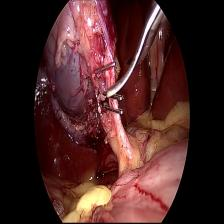Scissors: (101, 1, 171, 101)
